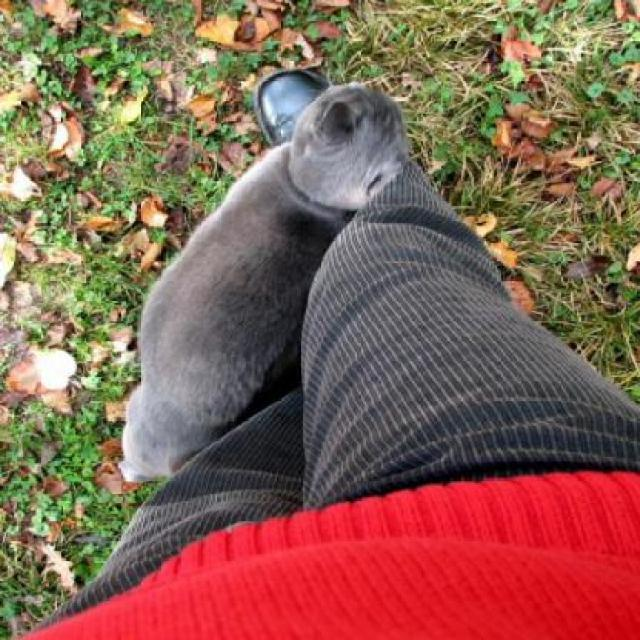Person: (40, 167, 638, 636)
